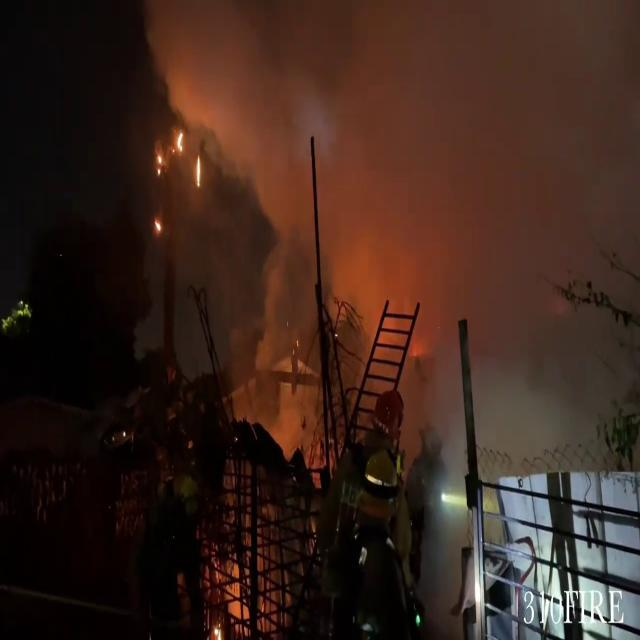Fire: (173, 125, 200, 184)
Smoke: (128, 0, 632, 425)
